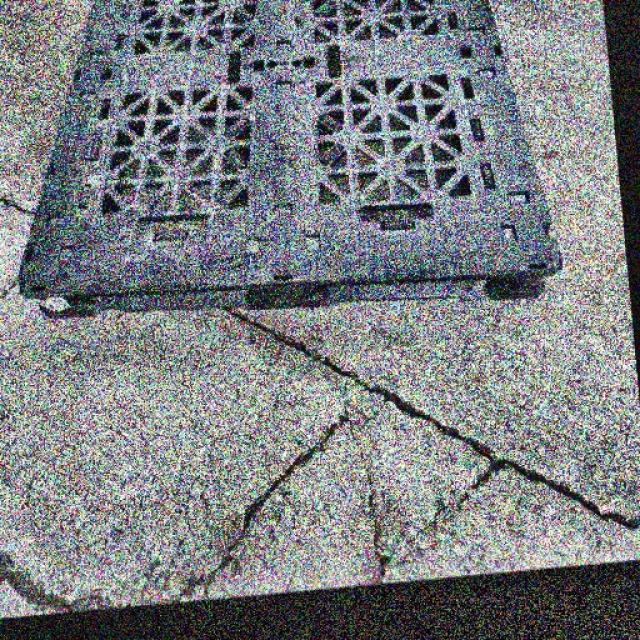igps: (0, 0, 576, 330)
